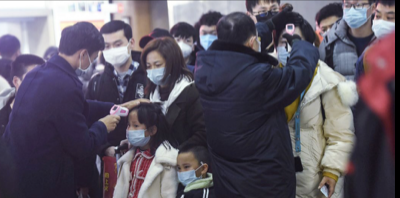with_mask: (273, 34, 303, 66), (100, 37, 130, 66), (341, 1, 371, 29), (370, 7, 394, 40), (144, 58, 171, 87), (124, 118, 149, 146), (174, 160, 199, 186), (75, 57, 98, 78), (172, 34, 191, 59), (198, 28, 217, 51)
